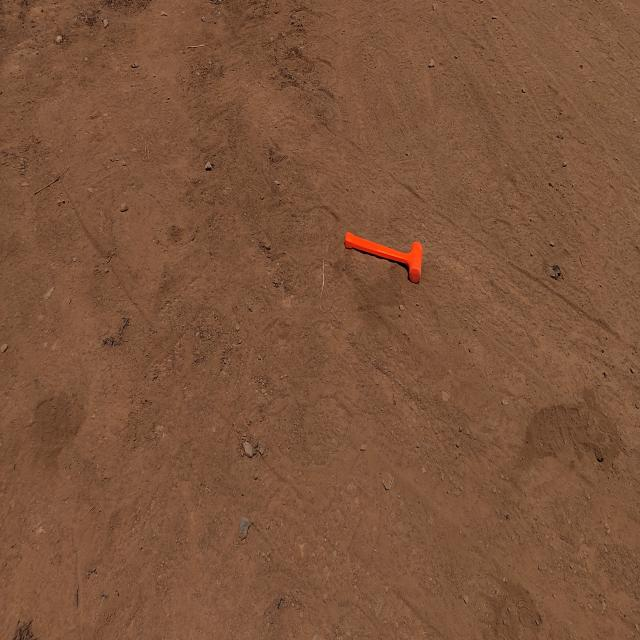Orange_hammer: (344, 230, 423, 285)
